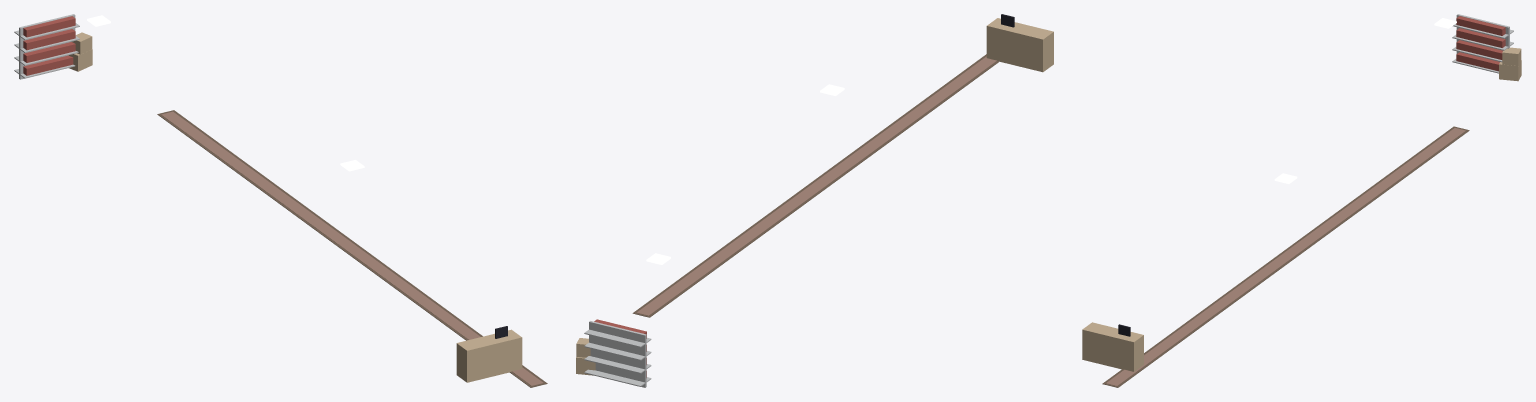
The model's file is fine-s0.glb.
3 views of the same model, side by side, from view 1: azimuth 30°, elevation 25°; view 2: azimuth 150°, elevation 25°; view 3: azimuth 330°, elevation 25° (orthographic). The views are drawn at different scales.
Visible parts, largest first — view 1: soft-s0, shelving.000, shop-counter.000, cardboard-box.000; view 2: soft-s0, shelving.000, shop-counter.000, cardboard-box.000; view 3: soft-s0, shelving.000, shop-counter.000, cardboard-box.000.
Boxes of the visible parts, box(x1,y1,x2,y2) form: soft-s0: box(157, 110, 547, 387); shelving.000: box(14, 14, 79, 79); shop-counter.000: box(456, 326, 522, 382); cardboard-box.000: box(68, 32, 92, 71); soft-s0: box(632, 54, 999, 317); shelving.000: box(584, 319, 651, 387); shop-counter.000: box(986, 14, 1053, 72); cardboard-box.000: box(576, 338, 595, 375); soft-s0: box(1102, 126, 1469, 387); shelving.000: box(1452, 14, 1513, 73); shop-counter.000: box(1082, 322, 1143, 371); cardboard-box.000: box(1499, 47, 1521, 81).
Bounding box in the file's own units: 2.74 × 2.64 × 25.45.
